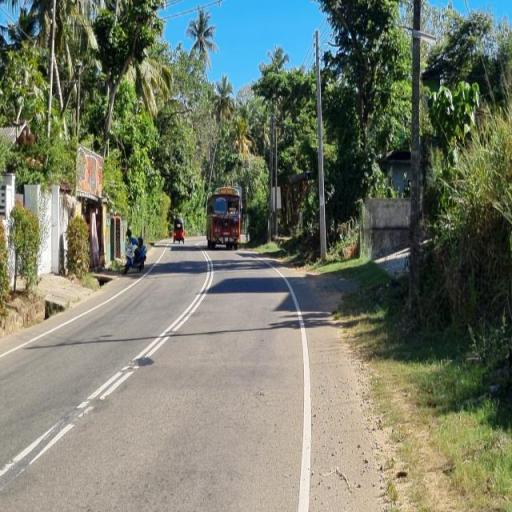double_white_line: (76, 250, 214, 416)
